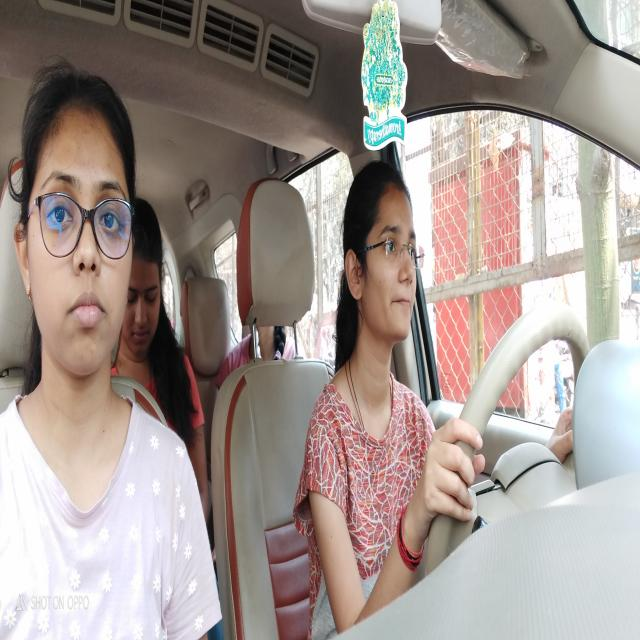person: (12, 54, 146, 377), (337, 158, 432, 368), (133, 188, 166, 359)
